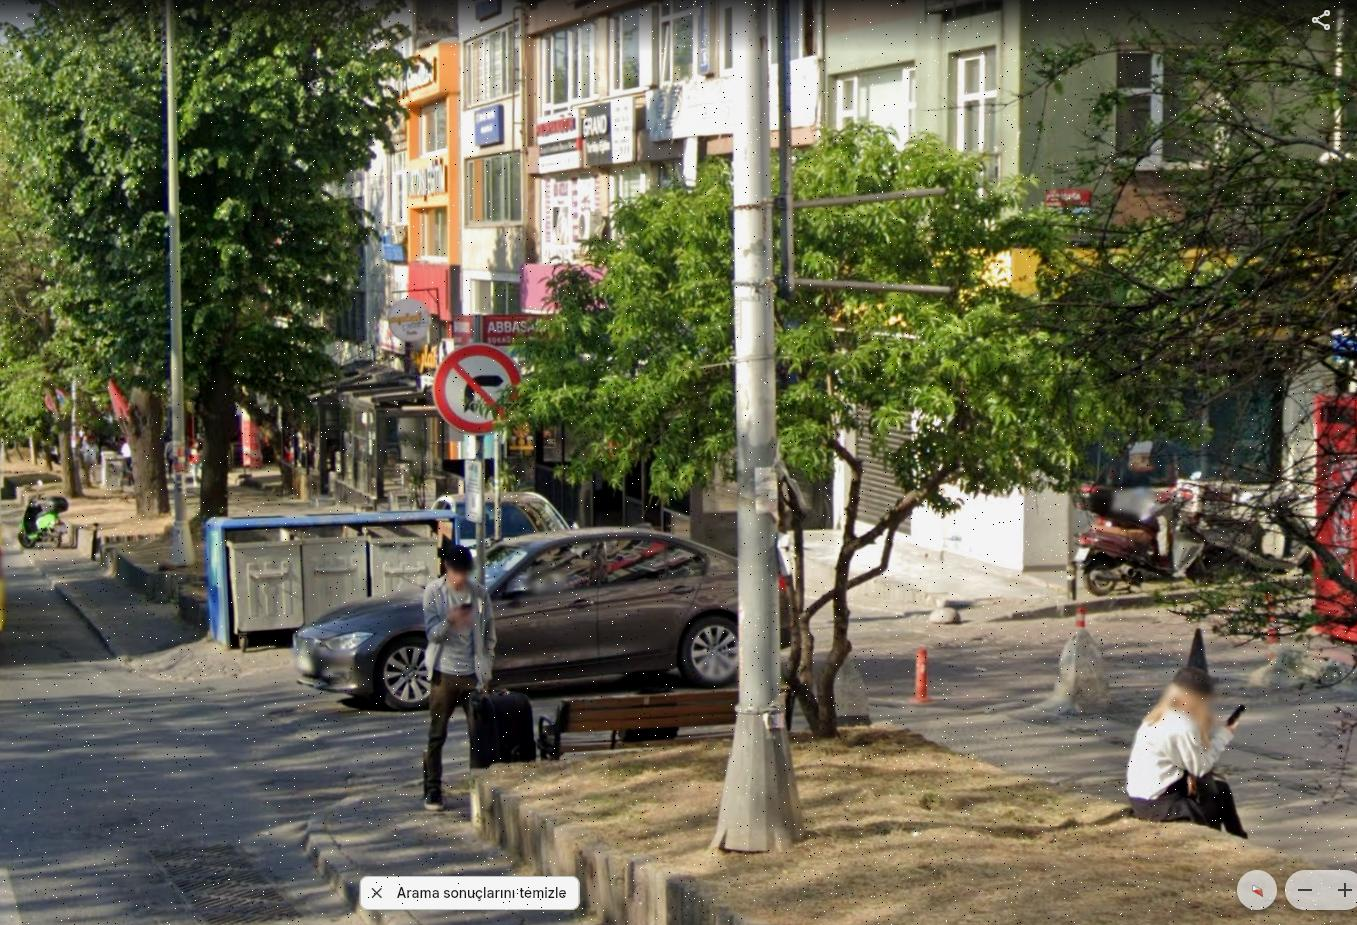rightturnsareforbidden: (437, 346, 518, 426)
